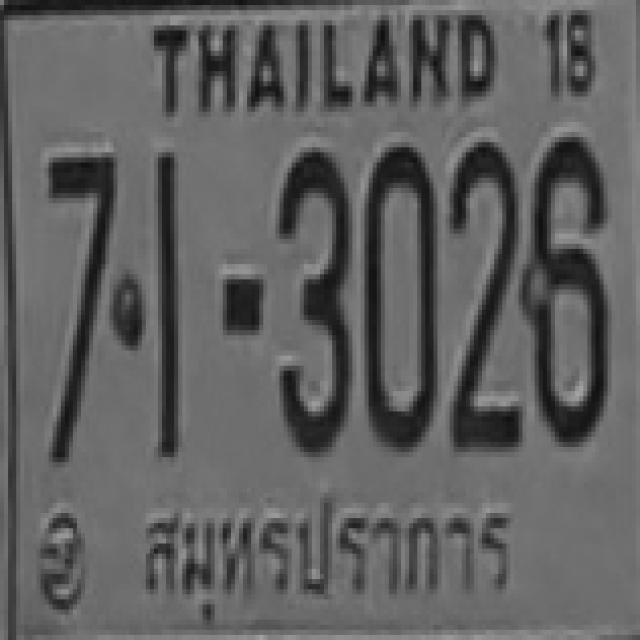0: (360, 145, 439, 452)
2: (450, 137, 522, 451)
3: (276, 150, 348, 449)
6: (533, 135, 612, 450)
7: (44, 152, 116, 466)
SamutPrakan: (130, 491, 524, 622)
